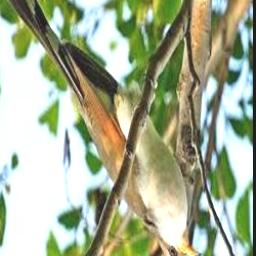Cuckoo: (3, 0, 201, 256)
